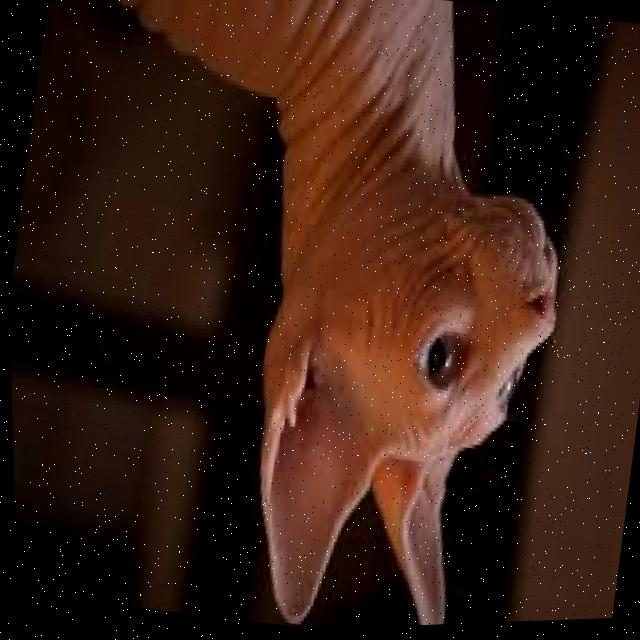Sphynx: (0, 0, 612, 640)
